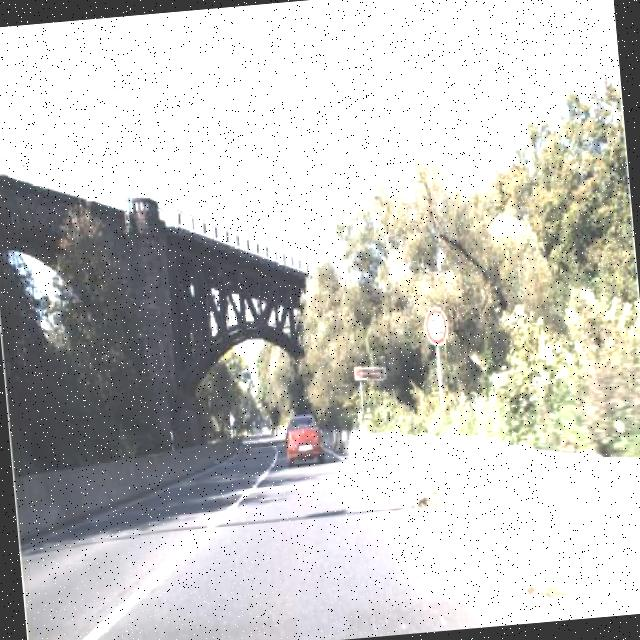Ograniczenie predkosci do 70: (421, 300, 450, 349)
